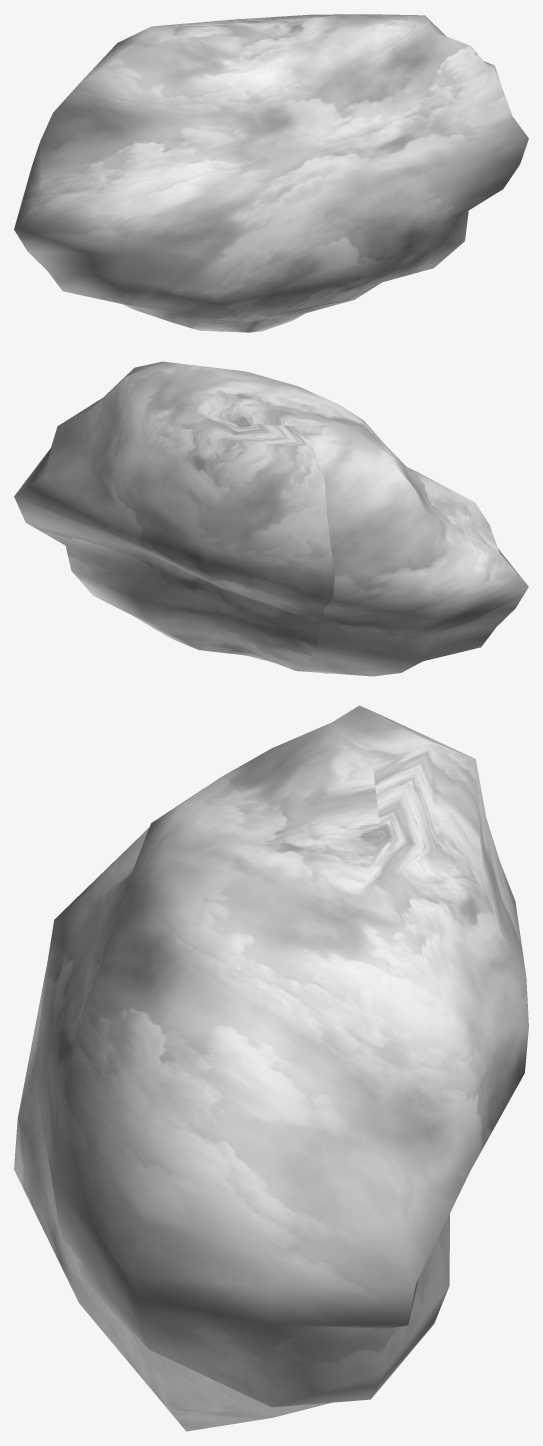
The model's file is nuvola.obj.
3 views of the same model, one above another, from view 1: azimuth 30°, elevation 25°; view 2: azimuth 150°, elevation 25°; view 3: azimuth 270°, elevation 25° (orthographic). The views are drawn at different scales.
Visible parts, largest first — view 1: nuvola_Sphere.003; view 2: nuvola_Sphere.003; view 3: nuvola_Sphere.003.
Boxes of the visible parts, left/top/right/bottom form: nuvola_Sphere.003: left=14, top=14, right=528, bottom=332; nuvola_Sphere.003: left=14, top=361, right=528, bottom=676; nuvola_Sphere.003: left=14, top=705, right=528, bottom=1431.
Size of the model in its own units: 3.93 by 2.18 by 1.86.
